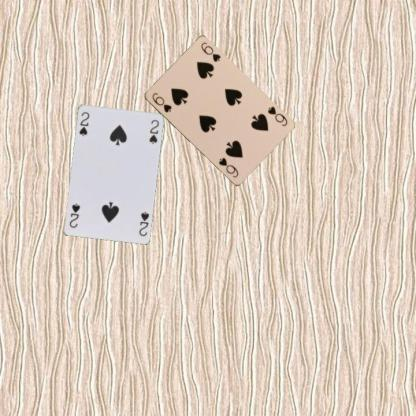2s: (136, 208, 150, 237), (76, 109, 90, 137)
6s: (149, 90, 173, 114), (264, 104, 288, 128)
